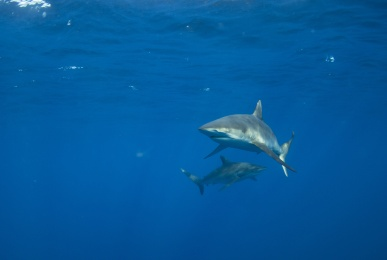Sedoso: (192, 98, 309, 177)
